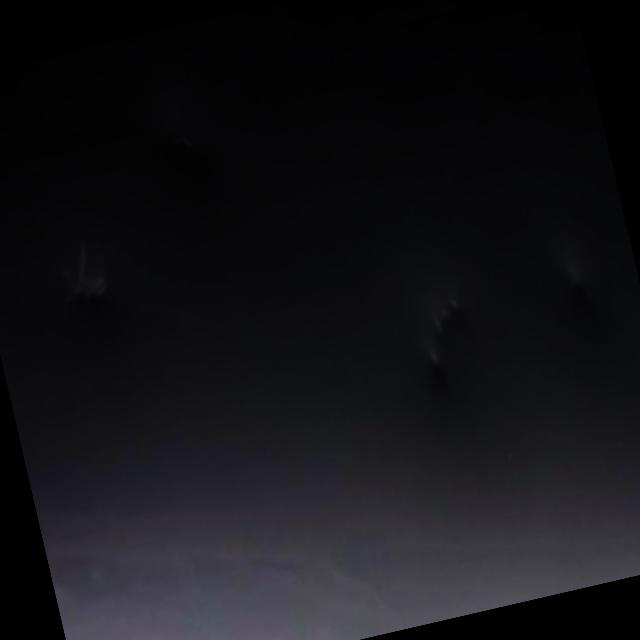dent: (540, 236, 610, 314), (68, 247, 126, 314), (155, 122, 200, 180), (418, 338, 450, 393)
